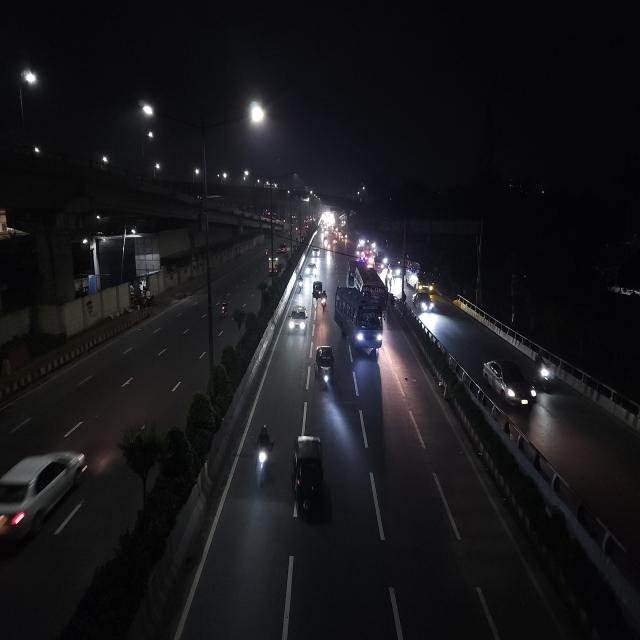bus: (333, 282, 386, 358)
car: (0, 441, 90, 558), (479, 356, 539, 415), (285, 302, 309, 338), (411, 289, 437, 315), (415, 272, 435, 293), (305, 259, 318, 279), (307, 256, 319, 270), (276, 242, 287, 254), (310, 246, 320, 259)
cng: (289, 431, 333, 528), (313, 342, 336, 392), (311, 278, 324, 304)
motorcycle: (249, 422, 277, 495), (532, 352, 556, 389), (218, 296, 230, 321), (319, 289, 328, 313), (296, 275, 306, 294), (264, 248, 269, 257)
pedestrian: (400, 288, 407, 306)
